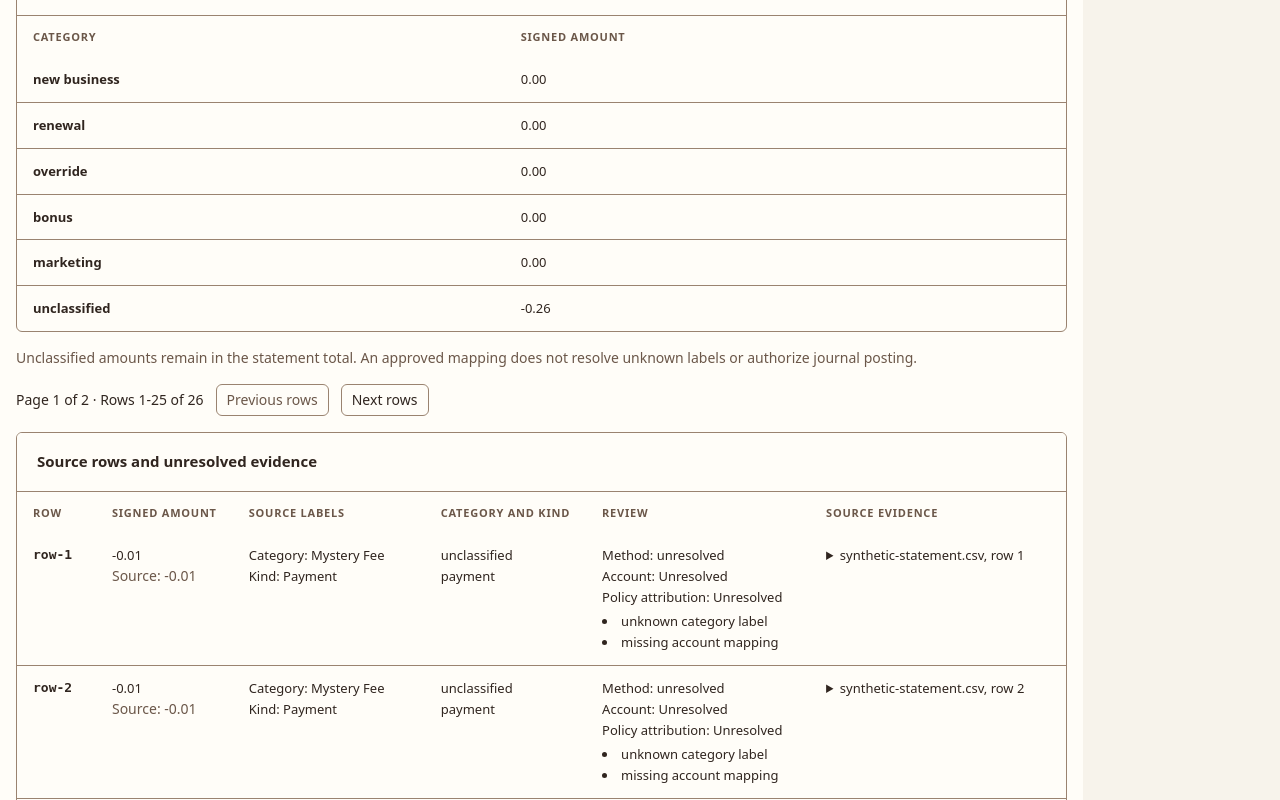
Test case: FinanceReviewPanel › pages to the final source row while keeping full statement totals unchanged
(page scrolled)
expect the message shows "Page 1 of 2": met, box [16,390,204,410]
expect the message shows "Rows 1-25 of 26": met, box [16,390,204,410]
Click the button "Next rows" at (385, 400), box [341,384,428,416]
(page scrolled)
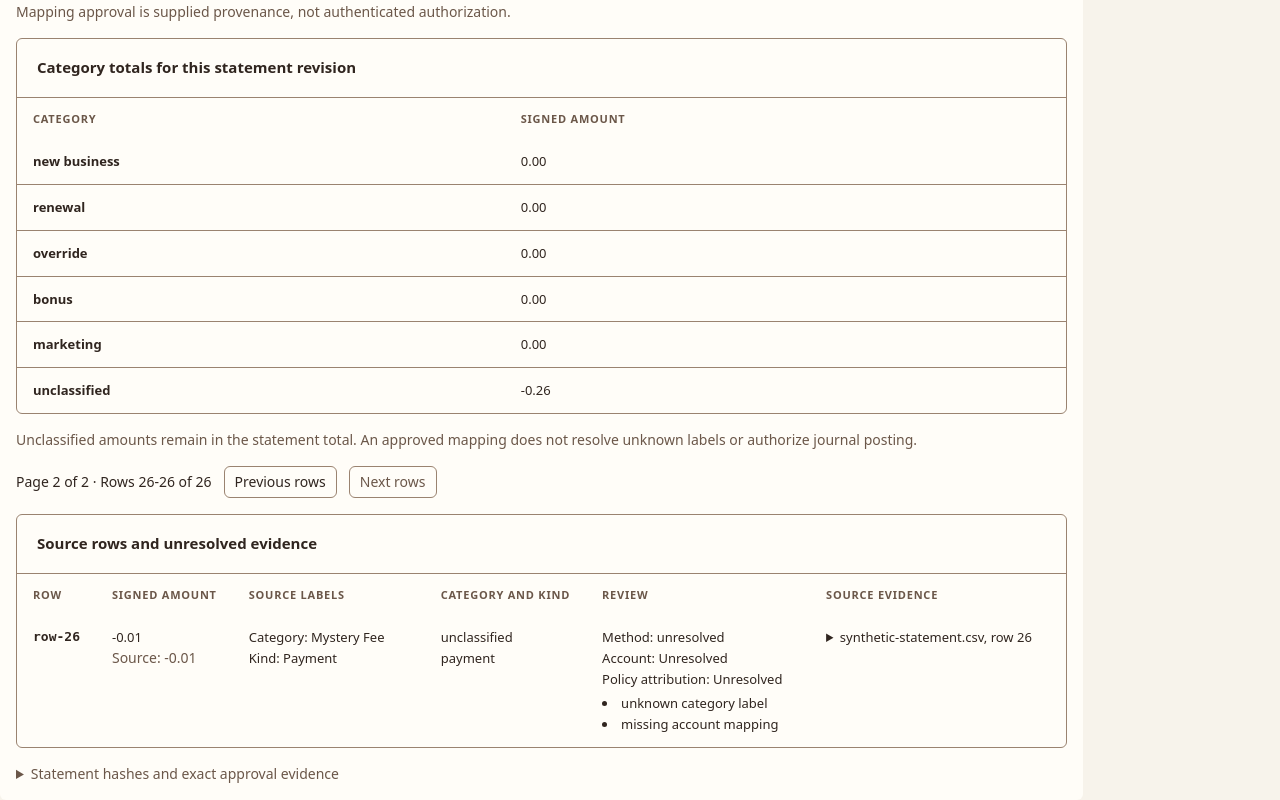
expect the message shows "Page 2 of 2": met, box [16,472,212,492]
expect the message shows "Rows 26-26 of 26": met, box [16,472,212,492]
expect the row "row-26" is shown: met, box [17,615,1066,747]
